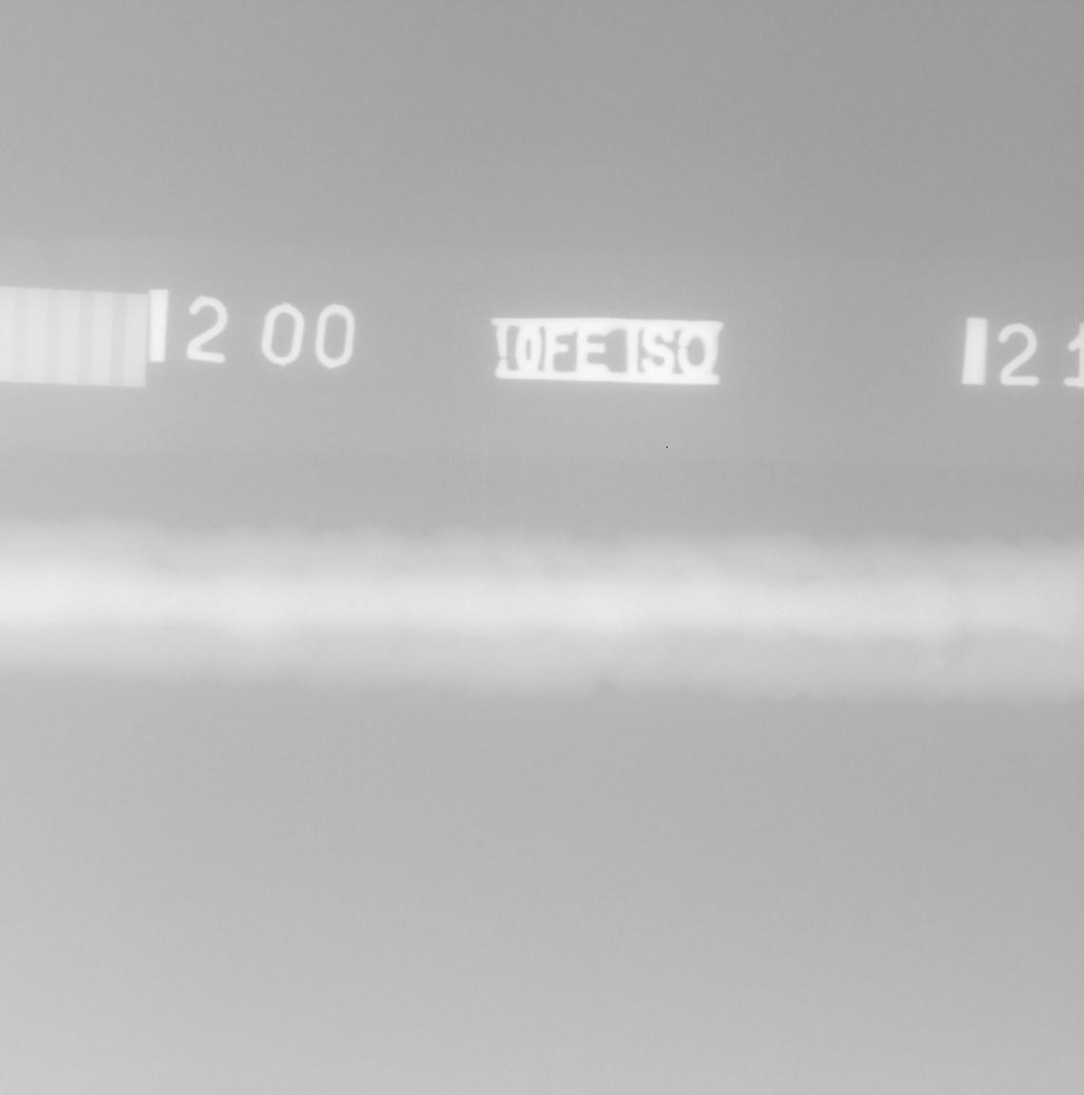Pore/Porosity: (182, 600, 192, 608), (163, 626, 172, 632), (164, 595, 172, 598)
Undercut: (602, 683, 612, 692)
